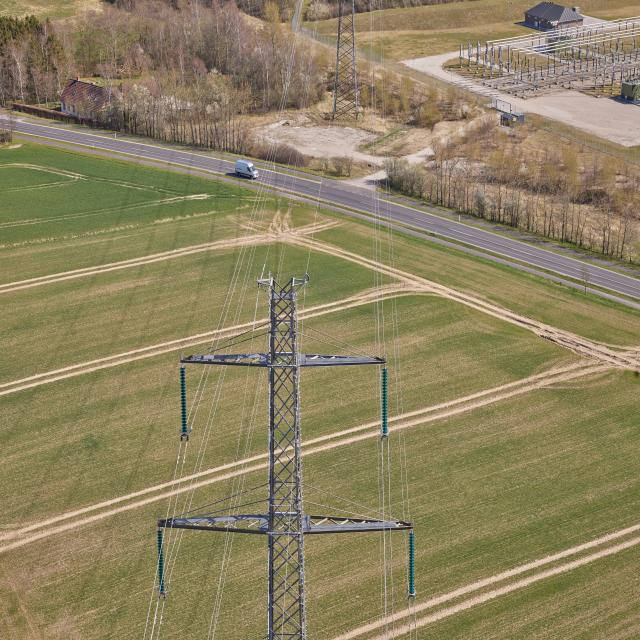杆塔: (159, 275, 412, 638)
正常电缆: (211, 82, 286, 346), (217, 154, 272, 343), (368, 52, 384, 640), (262, 91, 305, 269), (234, 164, 275, 336), (184, 366, 228, 516), (181, 366, 224, 516), (306, 91, 335, 271), (387, 251, 406, 519), (229, 202, 264, 338), (237, 367, 262, 494), (241, 368, 265, 493), (276, 151, 299, 276), (229, 364, 250, 497), (207, 532, 230, 639), (386, 446, 396, 640), (163, 439, 183, 527), (141, 567, 158, 640), (166, 530, 186, 591), (191, 365, 212, 423), (189, 364, 208, 419), (164, 529, 180, 582), (149, 595, 161, 640), (156, 600, 167, 640), (407, 602, 412, 640), (414, 605, 418, 640)
正常绝缘子: (180, 367, 191, 442), (381, 367, 389, 438), (158, 528, 166, 595), (408, 530, 415, 597)
